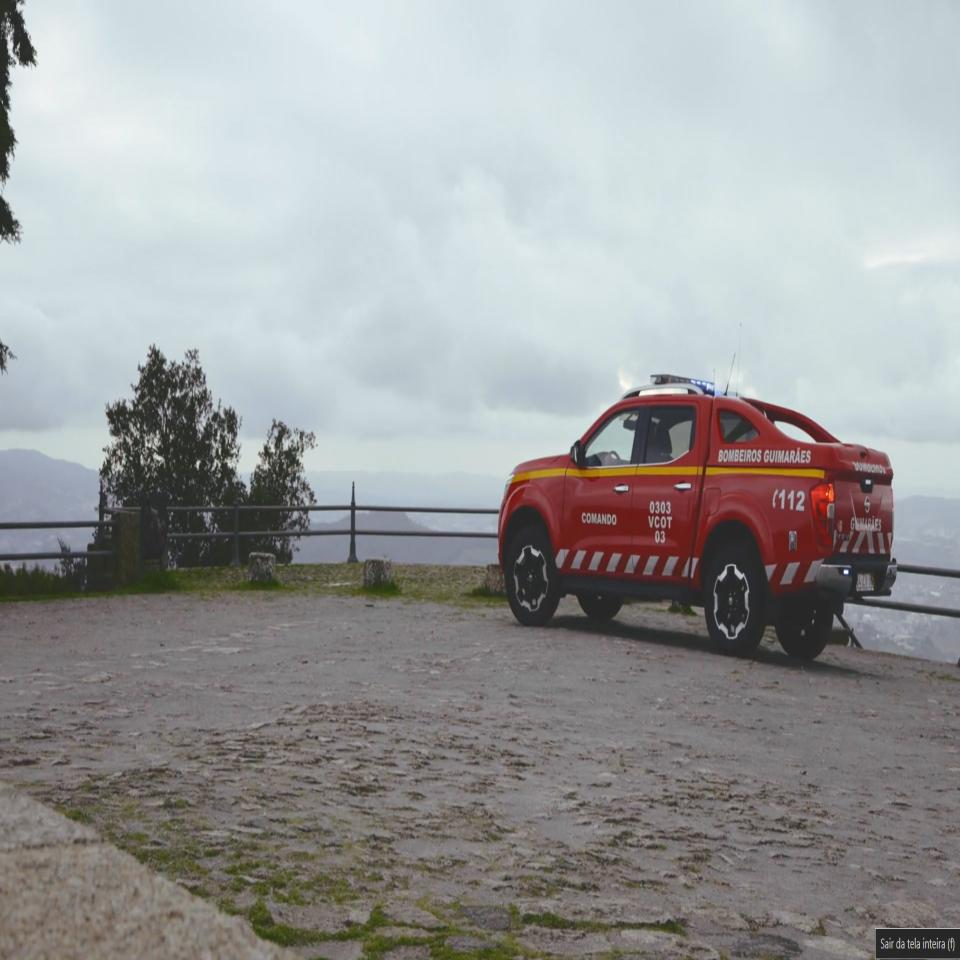bombeiro: (498, 374, 898, 652)
